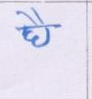ai_matra: (15, 8, 47, 25)
